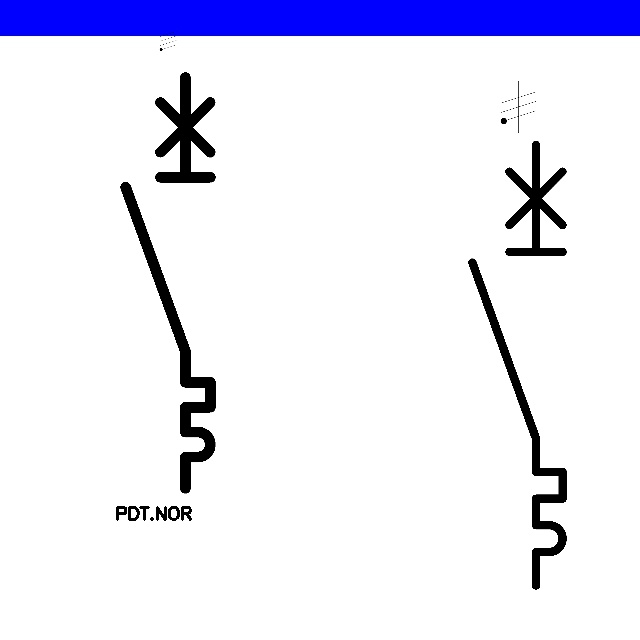interruptor_termomagnetico: (461, 133, 574, 596), (115, 66, 221, 498)
